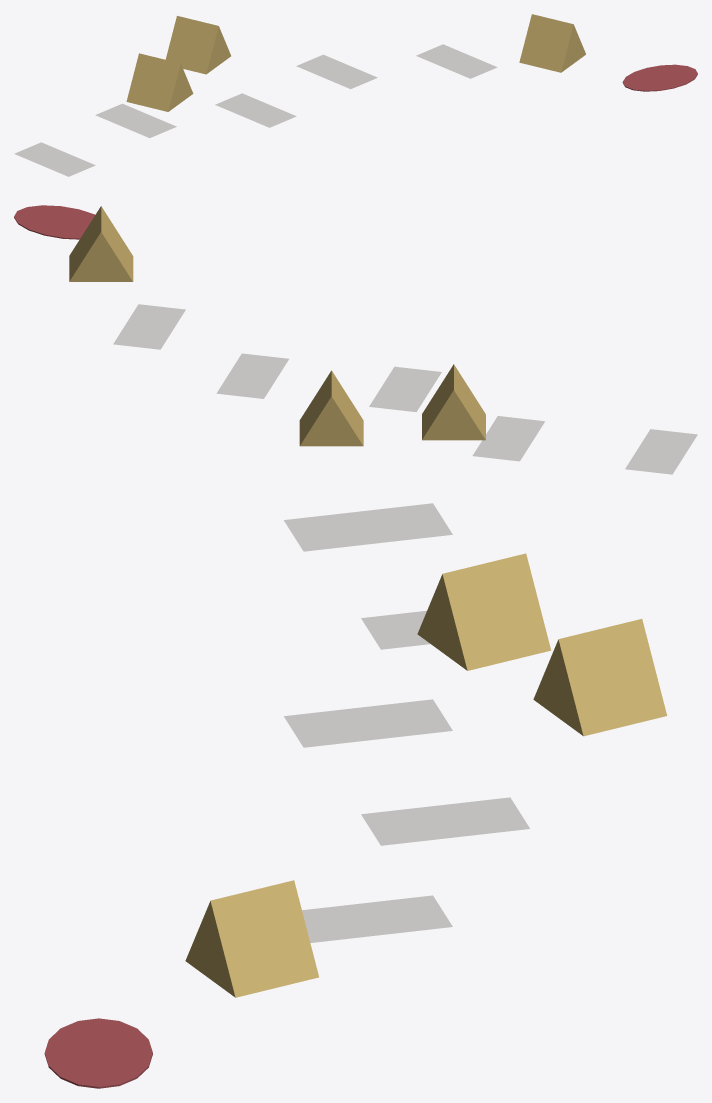
File: crime-scene-primitives-v1.glb
The picture shows the model from 3 angles, top to bottom: view 1: azimuth 30°, elevation 25°; view 2: azimuth 150°, elevation 25°; view 3: azimuth 270°, elevation 25°; orthographic projection. The views are drawn at different scales.
Parts seen in each view (by area): view 1: Primitive_MarkerTent_2, Primitive_MarkerTent_1, Primitive_MarkerTent_3, Primitive_Exhibit_E002_Decal, Primitive_FootprintCard_2, Primitive_FootprintCard_0, Primitive_FootprintCard_3, Primitive_FootprintCard_4, Primitive_FootprintCard_1; view 2: Primitive_MarkerTent_3, Primitive_MarkerTent_1, Primitive_MarkerTent_2, Primitive_FootprintCard_4, Primitive_FootprintCard_0, Primitive_FootprintCard_2, Primitive_FootprintCard_3, Primitive_FootprintCard_1, Primitive_Exhibit_E002_Decal; view 3: Primitive_MarkerTent_1, Primitive_MarkerTent_2, Primitive_MarkerTent_3, Primitive_Exhibit_E002_Decal, Primitive_FootprintCard_0, Primitive_FootprintCard_2, Primitive_FootprintCard_3, Primitive_FootprintCard_4, Primitive_FootprintCard_1.
Boxes of the visible parts, x1,y1,x2,y2 form: Primitive_MarkerTent_2: (519,14,585,72); Primitive_MarkerTent_1: (126,53,193,111); Primitive_MarkerTent_3: (165,16,230,74); Primitive_Exhibit_E002_Decal: (622,64,697,91); Primitive_FootprintCard_2: (215,93,296,127); Primitive_FootprintCard_0: (14,142,95,176); Primitive_FootprintCard_3: (296,54,377,89); Primitive_FootprintCard_4: (416,44,497,78); Primitive_FootprintCard_1: (95,103,176,137); Primitive_MarkerTent_3: (299,370,363,446); Primitive_MarkerTent_1: (422,364,485,440); Primitive_MarkerTent_2: (69,206,133,281); Primitive_FootprintCard_4: (113,304,185,349); Primitive_FootprintCard_0: (625,429,697,474); Primitive_FootprintCard_2: (369,366,441,412); Primitive_FootprintCard_3: (216,353,288,398); Primitive_FootprintCard_1: (472,416,544,461); Primitive_Exhibit_E002_Decal: (14,205,94,239); Primitive_MarkerTent_1: (417,553,551,670); Primitive_MarkerTent_2: (185,880,318,997); Primitive_MarkerTent_3: (533,619,667,736); Primitive_Exhibit_E002_Decal: (44,1018,152,1088); Primitive_FootprintCard_0: (284,503,452,551); Primitive_FootprintCard_2: (284,699,452,747); Primitive_FootprintCard_3: (361,797,529,845); Primitive_FootprintCard_4: (302,895,452,942); Primitive_FootprintCard_1: (361,610,429,649).
Size of the model in its own units: 3.57 by 0.2755 by 1.61.
